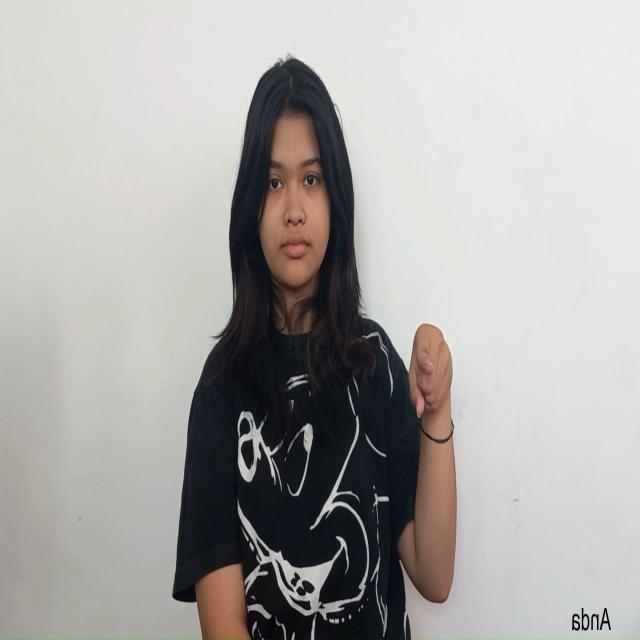Anda -BISINDO-: (407, 320, 454, 425)
